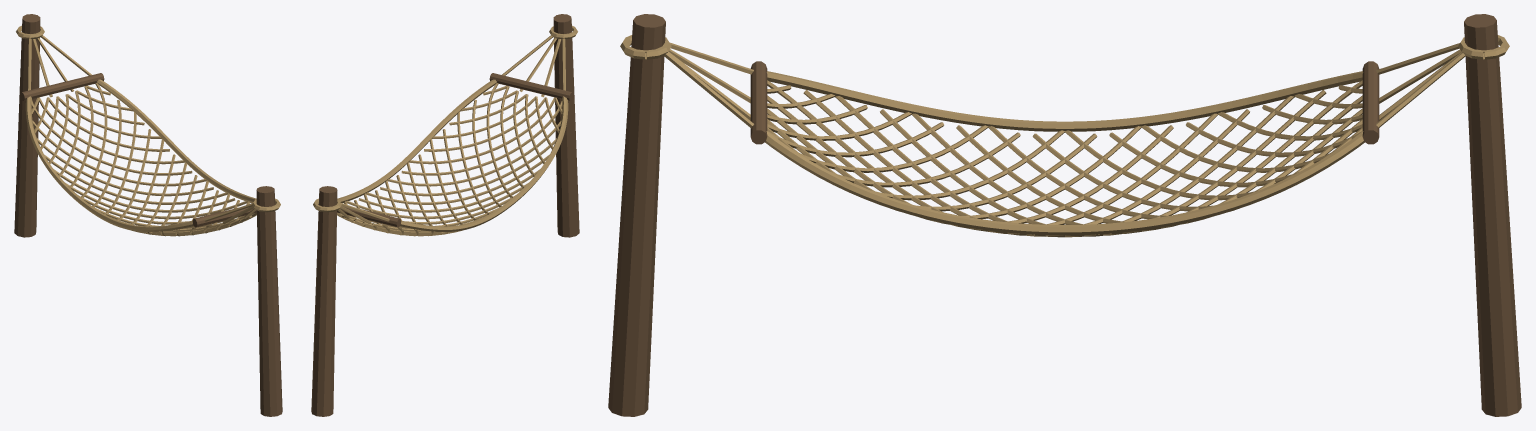
Rendered from hammock.glb.
The picture shows the model from 3 angles, left to right: view 1: azimuth 30°, elevation 25°; view 2: azimuth 150°, elevation 25°; view 3: azimuth 270°, elevation 25°; orthographic projection. The views are drawn at different scales.
Visible parts, largest first — view 1: hammock-rope, hammock-wood; view 2: hammock-rope, hammock-wood; view 3: hammock-rope, hammock-wood.
Part boxes in pixels (x1,y1,x2,y2): hammock-rope: (16, 25, 280, 236); hammock-wood: (14, 14, 282, 416); hammock-rope: (313, 25, 577, 236); hammock-wood: (311, 14, 579, 416); hammock-rope: (620, 35, 1509, 237); hammock-wood: (608, 14, 1521, 416).
Bounding box in the file's own units: 1.08 × 1.83 × 3.88.
